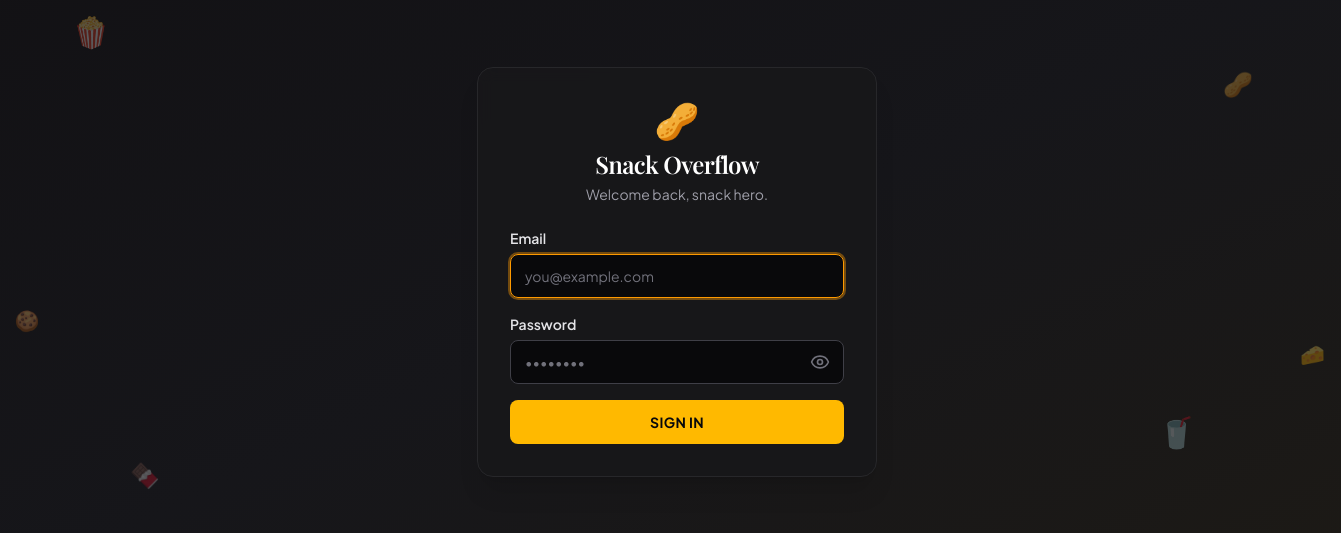
LoginPage › shows the rate-limit message for 429 RATE_LIMITED
Type "member@bpf.com" into the field labelled "Email".
click(677, 276); type("member@bpf.com")  # box left=510, top=254, right=844, bottom=298
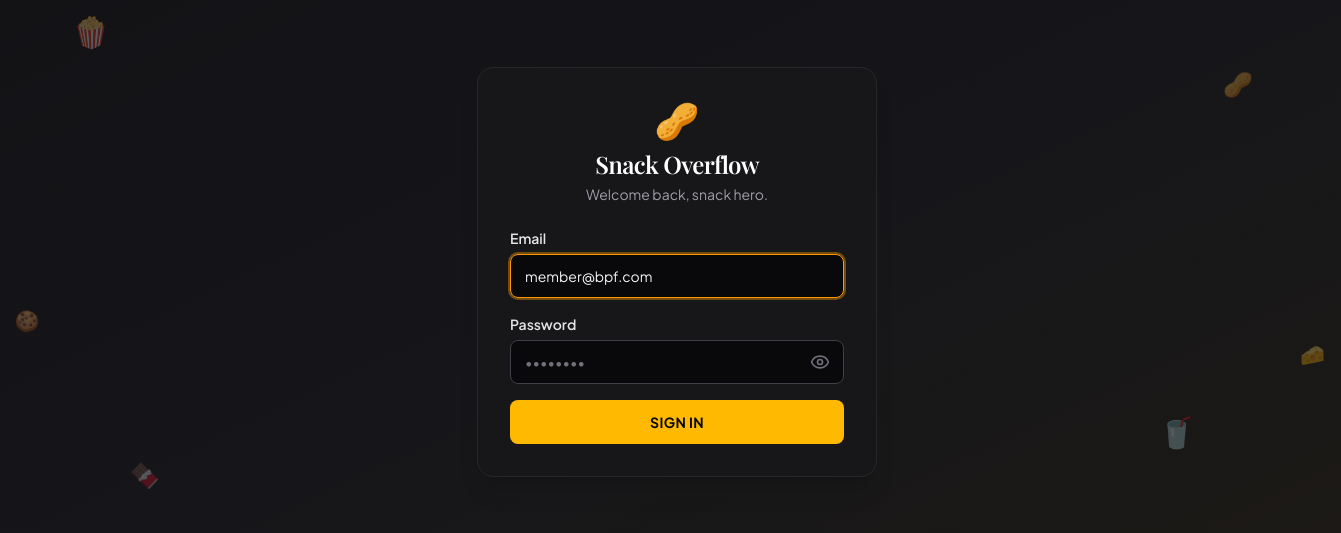
Type "Member@123" into the password field labelled "Password".
click(677, 362); type("Member@123")  # box left=510, top=340, right=844, bottom=384
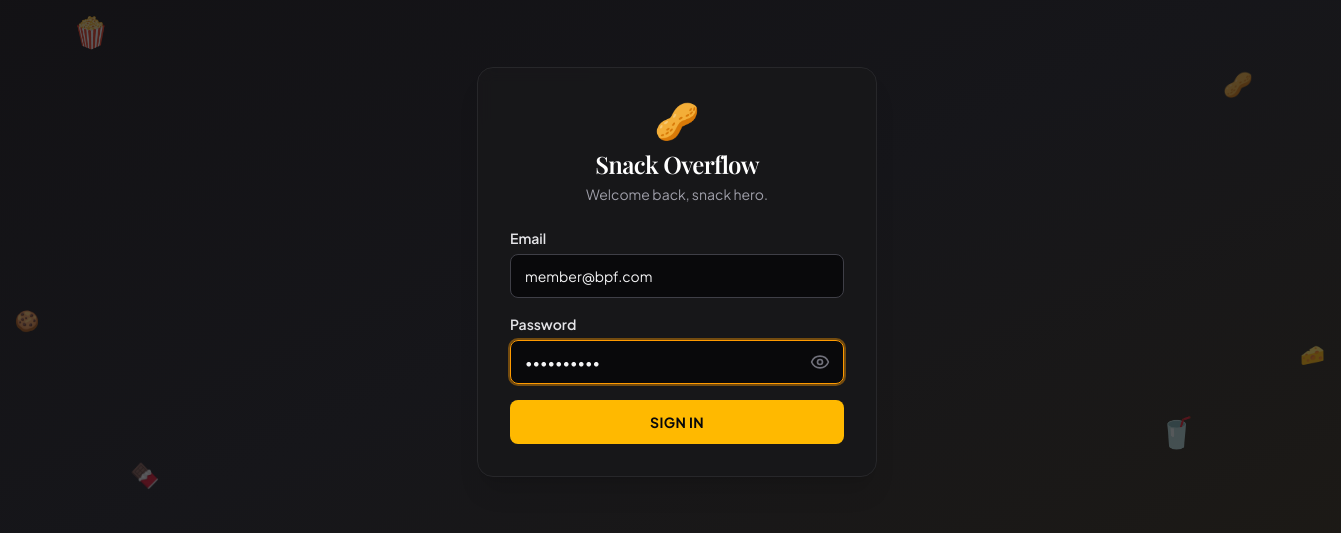
Click the button "Sign in".
click(677, 422)  # box left=510, top=400, right=844, bottom=444
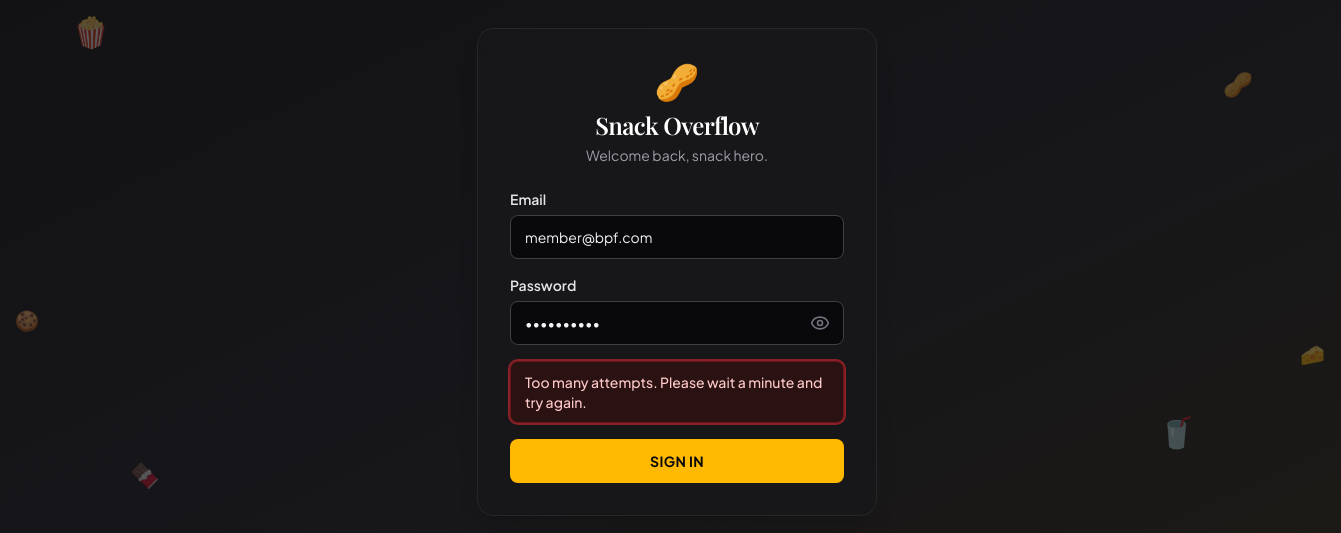
expect the message reads "Too many attempts. Please wait a minute and try again.": met, box left=525, top=373, right=822, bottom=411
